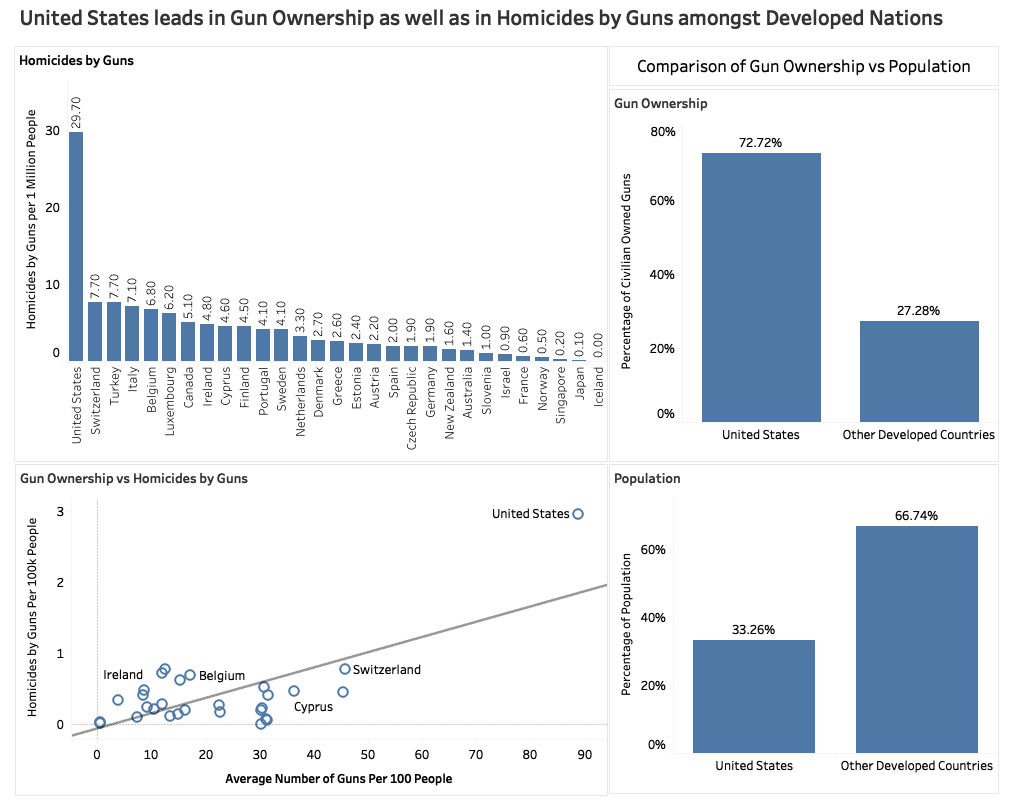

This screenshot's page, from the dashboard's own definition file:
{"tool":"tableau","page":{"name":"CountryAnalysis","canvas":[1000,800],"ordinal":0},"visuals":[{"type":"title","box":[8,8,984,36]},{"type":"worksheet","title":"country_gunHomicides","mark":"Automatic","rows":["Calculation_19632942008631296"],"cols":["Country"],"box":[9,55,594,416]},{"type":"text","box":[604,55,390,40]},{"type":"worksheet","title":"countrywise_USRest_gunOwnership","mark":"Automatic","rows":["avg_tot_all_guns"],"box":[604,98,390,373]},{"type":"worksheet","title":"countrywise_USRest_population","mark":"Automatic","rows":["pop2019"],"box":[604,473,390,328]}]}

Visuals, with their boxes in screenshot pixels (x1, y1, x2, y2), scaled from the page's 1000x800 canvas onto the 1012x805 screenshot:
title: <box>8,8,1004,44</box>
"country_gunHomicides" worksheet: <box>9,55,610,474</box>
text: <box>611,55,1006,96</box>
"countrywise_USRest_gunOwnership" worksheet: <box>611,99,1006,474</box>
"countrywise_USRest_population" worksheet: <box>611,476,1006,804</box>
